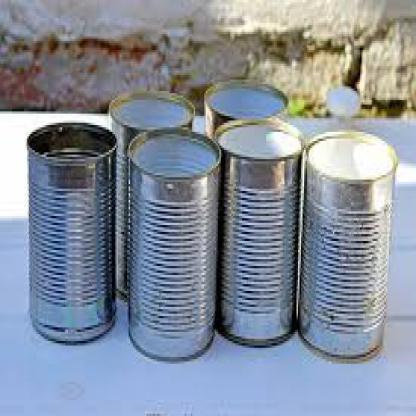METAL: (296, 127, 396, 364), (127, 123, 219, 361), (213, 116, 304, 348), (26, 121, 118, 346), (106, 88, 194, 304), (203, 80, 289, 136)
